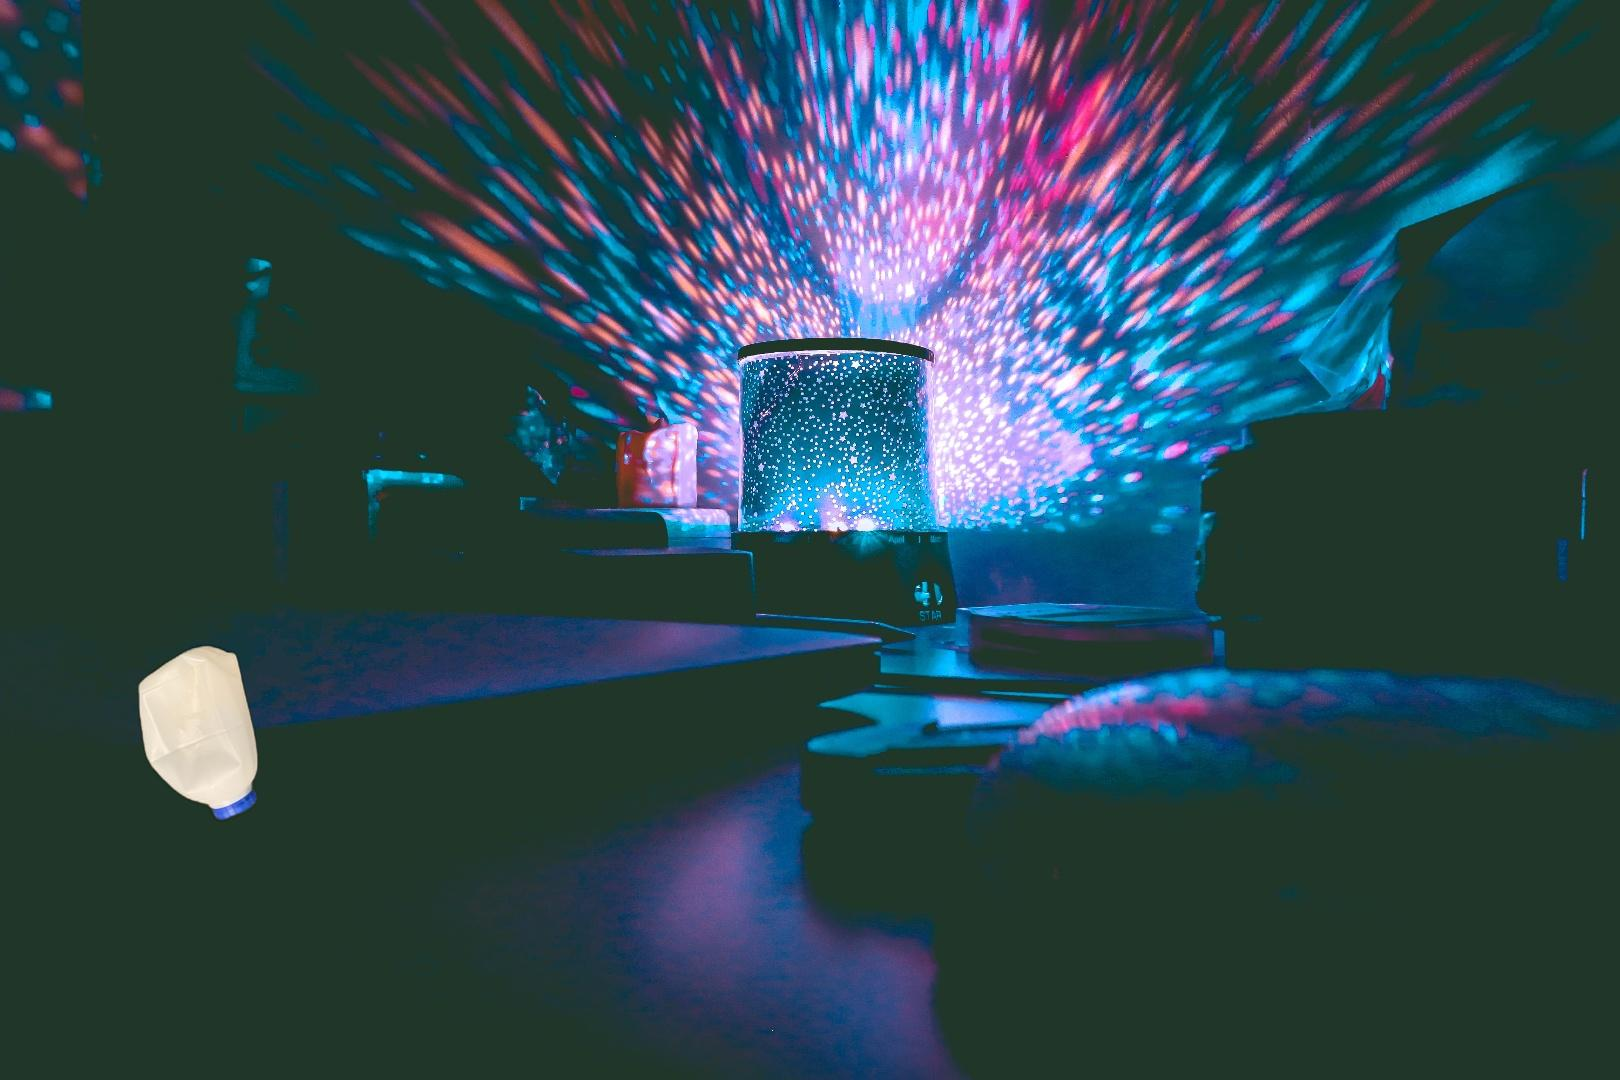plastic-bottles: (133, 350, 263, 827)
